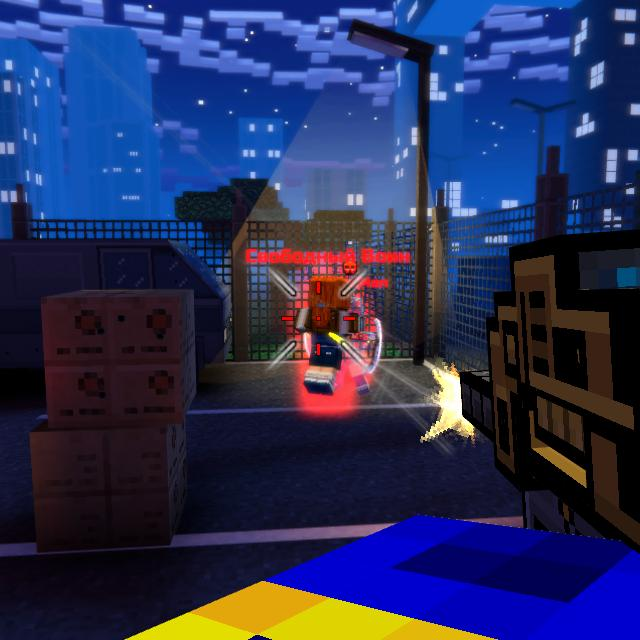Enemy: (295, 280, 364, 395)
